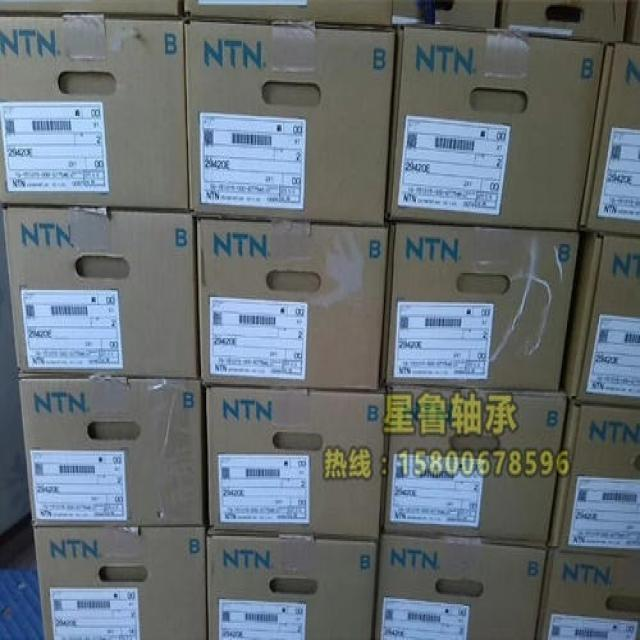box: (385, 28, 605, 231), (186, 19, 395, 226), (0, 14, 189, 210), (3, 207, 200, 379), (380, 222, 579, 391), (197, 219, 388, 392), (378, 385, 568, 544), (18, 371, 206, 527), (206, 386, 386, 540), (34, 526, 206, 638), (371, 533, 547, 638), (206, 533, 377, 638), (547, 399, 639, 556), (558, 232, 639, 406), (577, 42, 639, 236), (535, 547, 639, 638), (184, 0, 392, 28), (498, 0, 627, 43), (392, 1, 497, 32), (0, 0, 179, 15)
